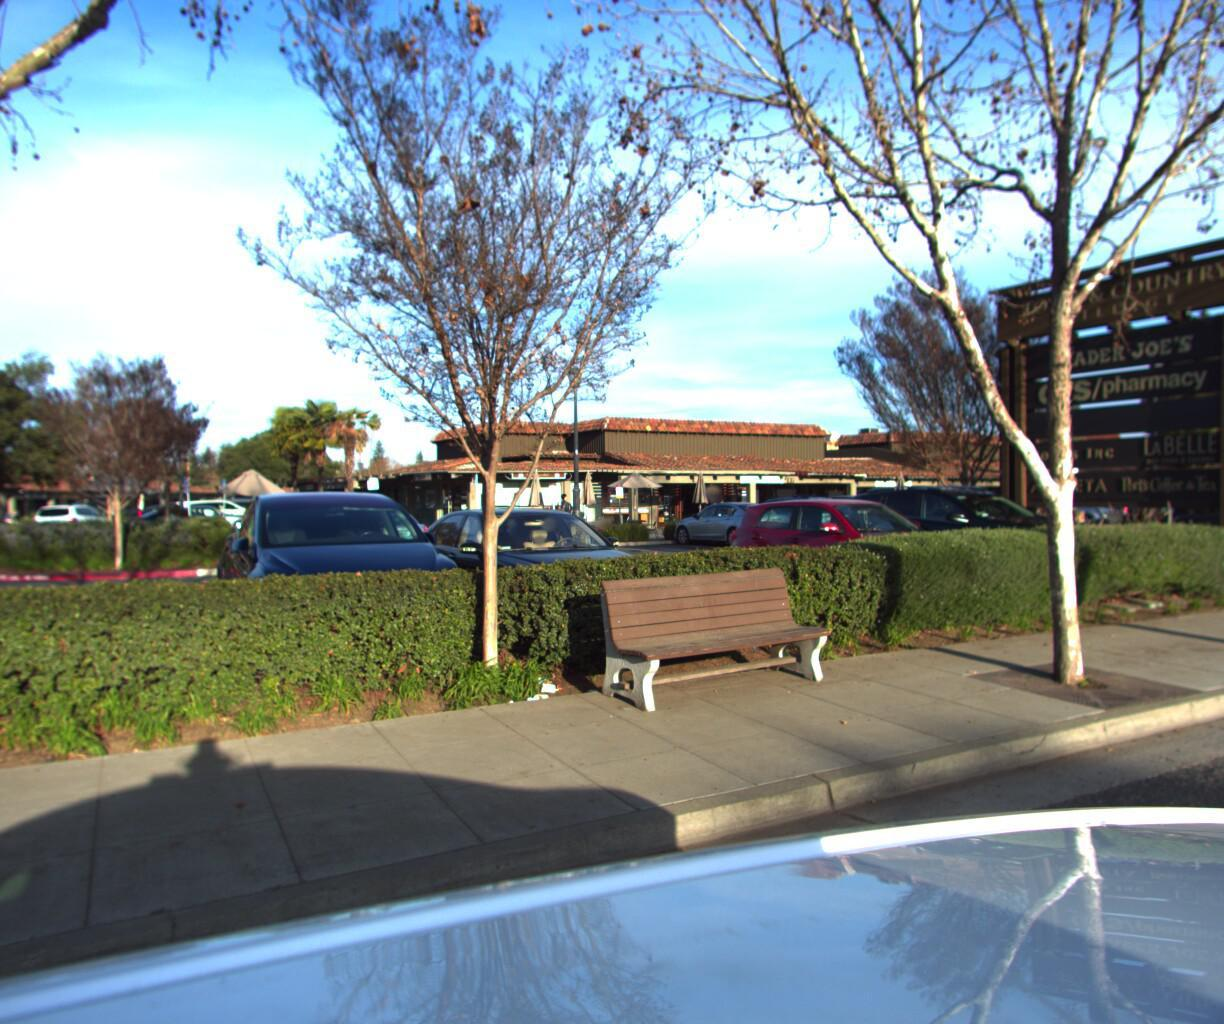car: (207, 481, 477, 705), (396, 500, 667, 658), (711, 491, 976, 617), (846, 472, 1103, 582), (1073, 476, 1224, 559)
